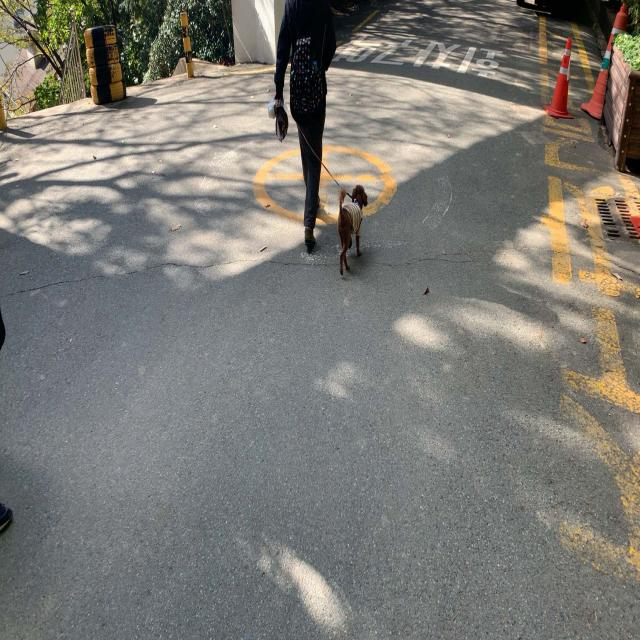Leashed_Dog: (268, 100, 369, 276)
